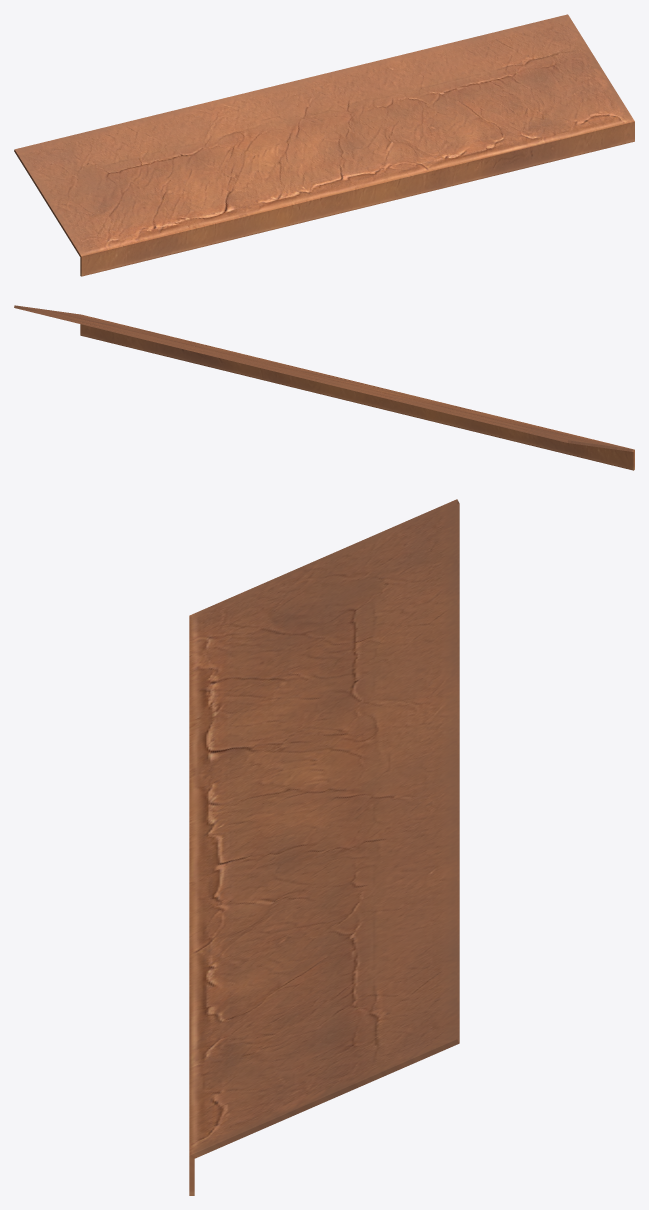
File: MSN_Awning6.fbx
3 views of the same model, one above another, from view 1: azimuth 30°, elevation 25°; view 2: azimuth 150°, elevation 25°; view 3: azimuth 270°, elevation 25° (orthographic). The views are drawn at different scales.
Visible parts, largest first — view 1: MSN_Awning6; view 2: MSN_Awning6; view 3: MSN_Awning6.
Boxes of the visible parts, x1=… form: MSN_Awning6: x1=14, y1=14, x2=634, y2=276; MSN_Awning6: x1=14, y1=305, x2=634, y2=470; MSN_Awning6: x1=189, y1=499, x2=459, y2=1195.
Size of the model in its own units: 6 by 1.27 by 0.8113.
1 material, 1 textured.
